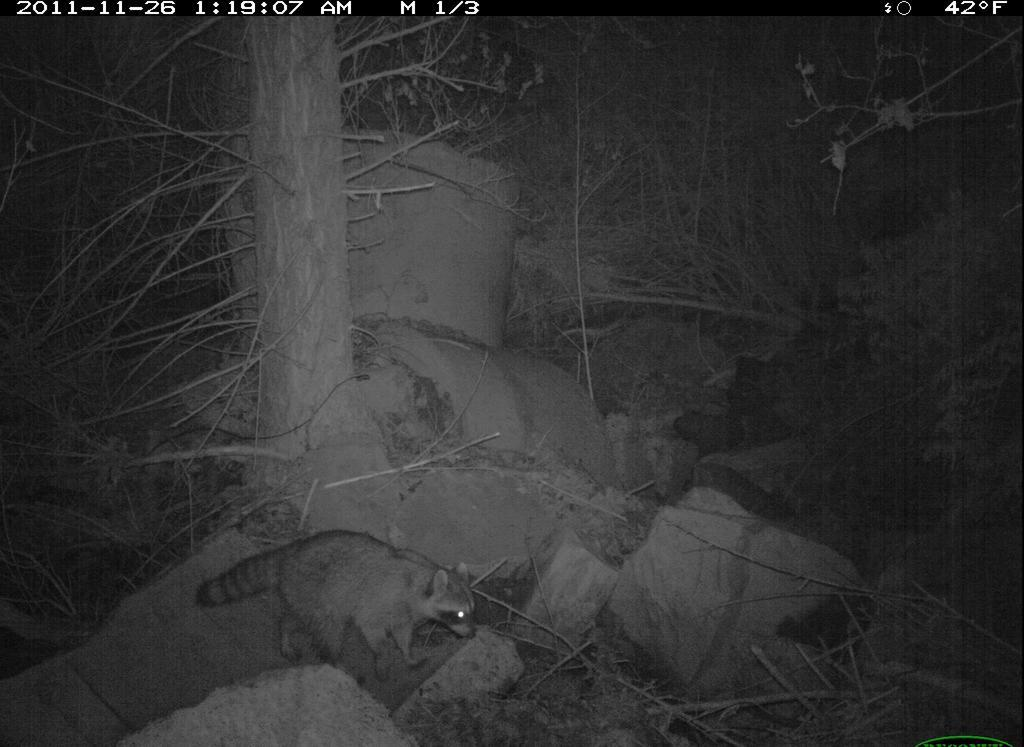raccoon: (184, 522, 496, 686)
